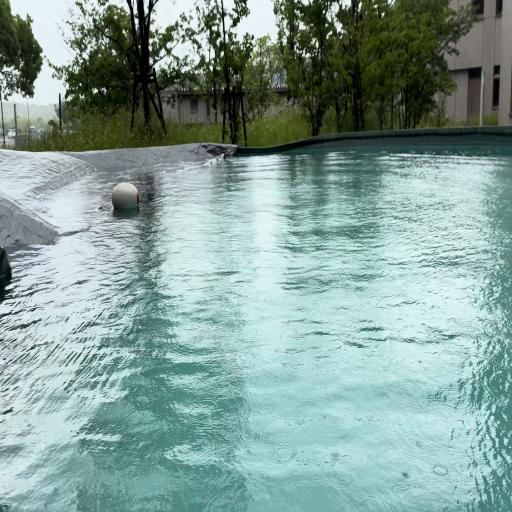white buoy: (111, 182, 140, 209)
